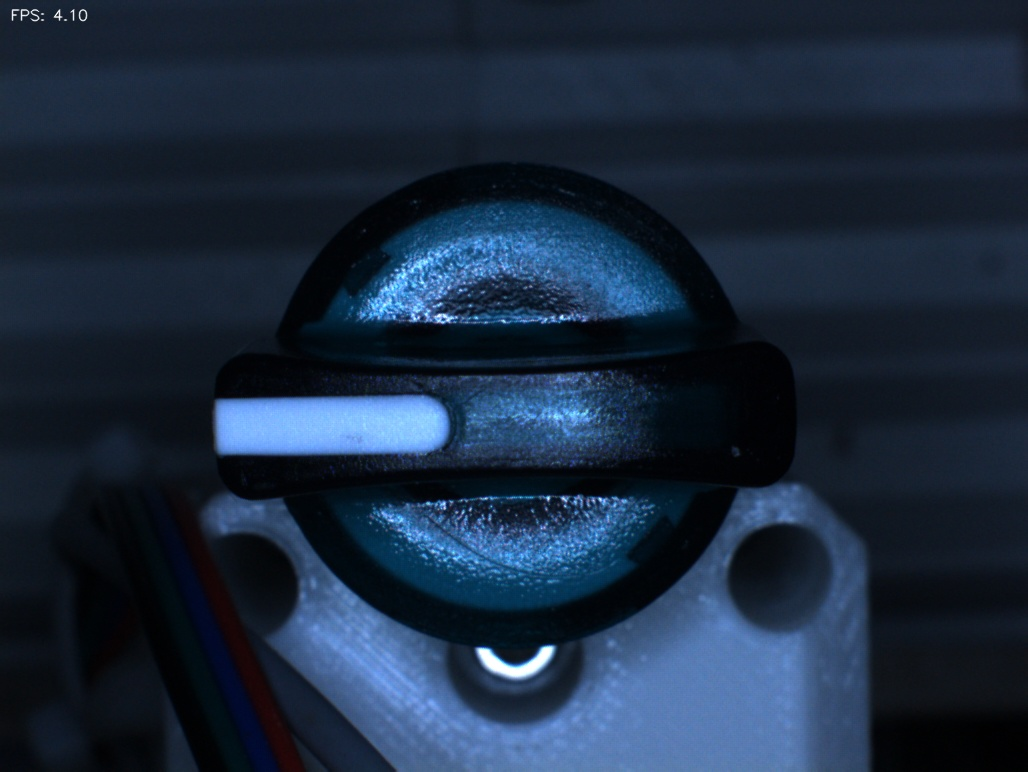PointNoir: (315, 413, 399, 475)
